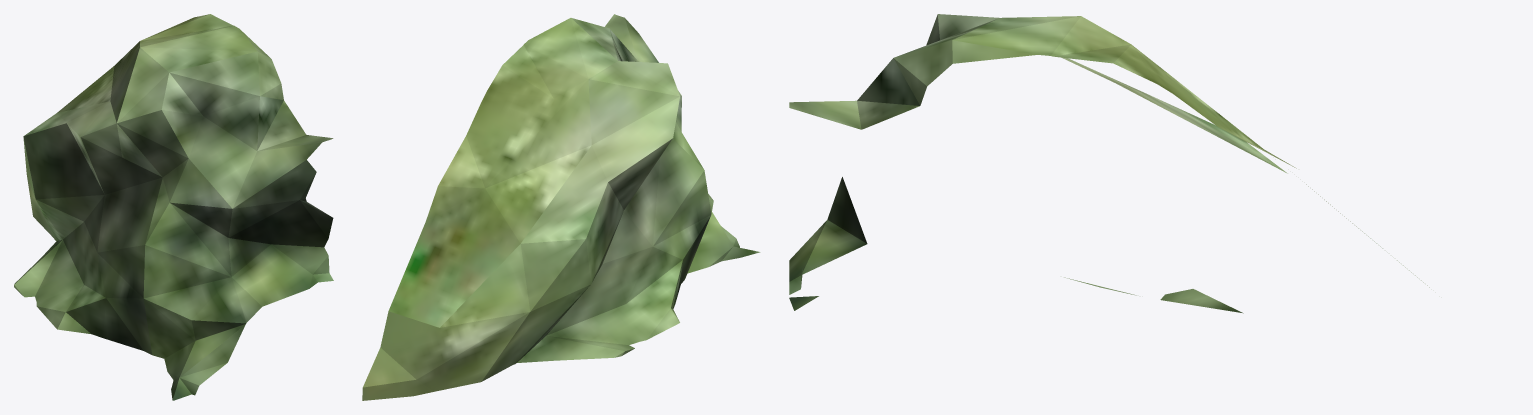
3 views of the same model, side by side, from view 1: azimuth 30°, elevation 25°; view 2: azimuth 150°, elevation 25°; view 3: azimuth 270°, elevation 25° (orthographic). The views are drawn at different scales.
Size of the model in its own units: 2.84 by 4.17 by 7.83.
Materials: 1 (1 with a texture image).
